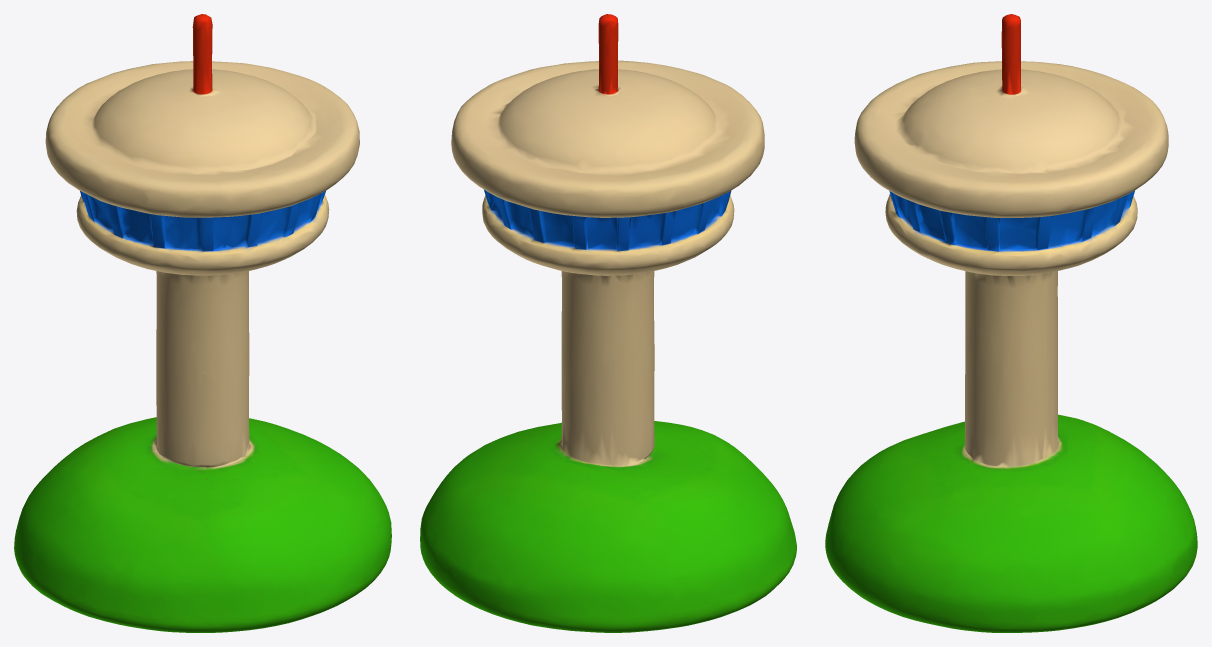
Rendered from tower.fbx.
The picture shows the model from 3 angles, left to right: view 1: azimuth 30°, elevation 25°; view 2: azimuth 150°, elevation 25°; view 3: azimuth 270°, elevation 25°; orthographic projection.
Visible parts, largest first — view 1: tripo_node_7ccf8cb2; view 2: tripo_node_7ccf8cb2; view 3: tripo_node_7ccf8cb2.
Part boxes in pixels (box(x1,y1,x2,y2)): tripo_node_7ccf8cb2: box(14, 14, 391, 632); tripo_node_7ccf8cb2: box(420, 14, 796, 632); tripo_node_7ccf8cb2: box(825, 14, 1197, 632).
Bounding box in the file's own units: 0.6293 × 1 × 0.6221.
1 material, 1 textured.
